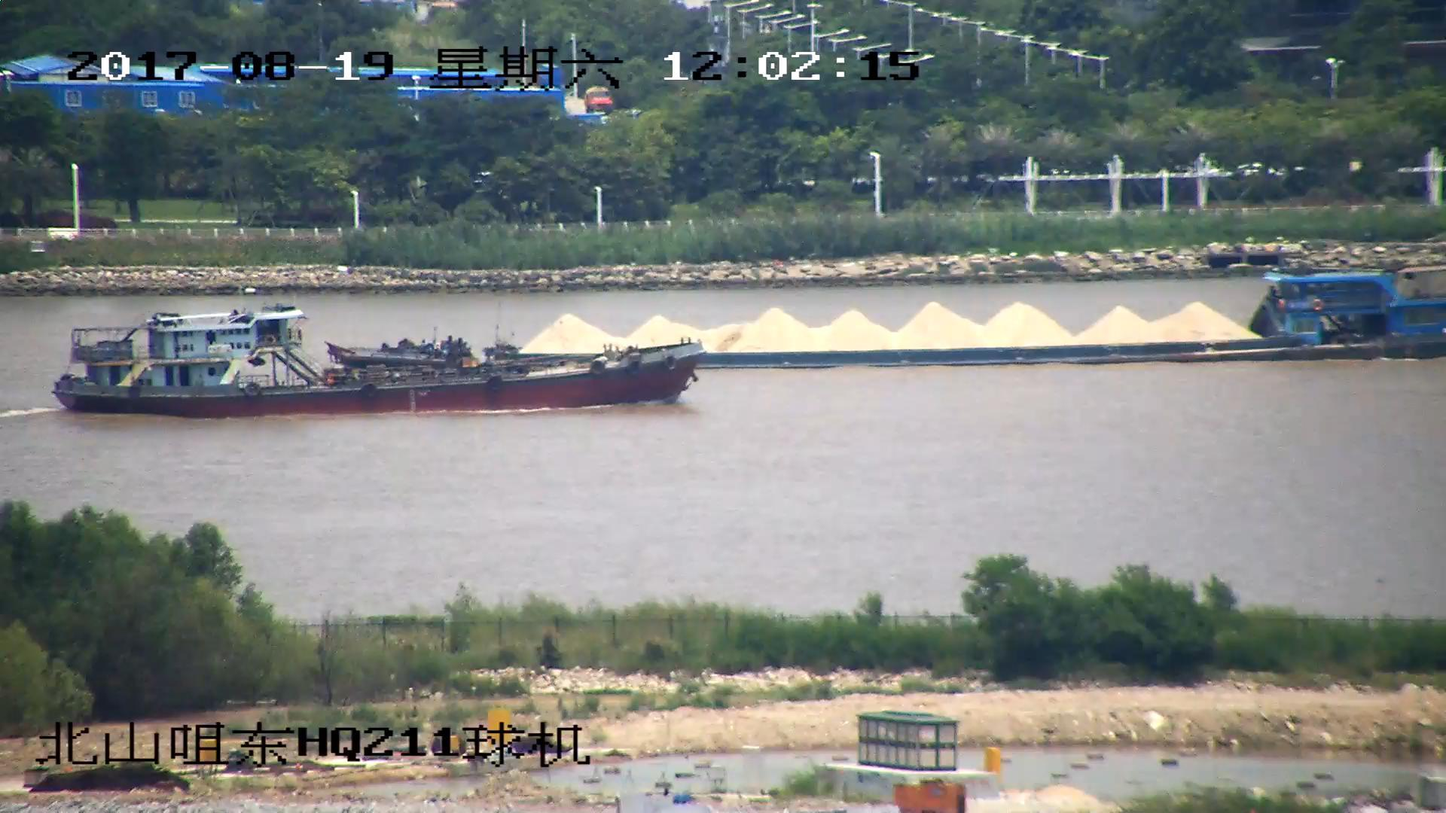bulk cargo carrier: (50, 307, 703, 416)
ore carrier: (517, 263, 1445, 366)
